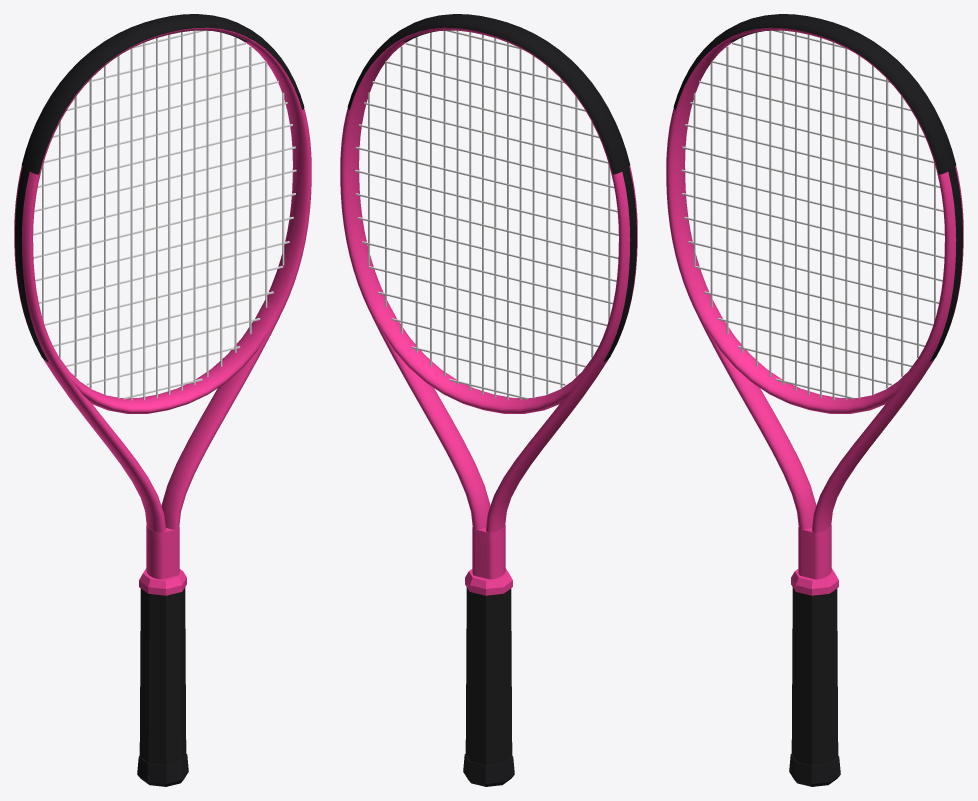
File: wilson-burn-pink-105s-v6-2026.glb
3 renders of one model, left to right at view 1: azimuth 30°, elevation 25°; view 2: azimuth 150°, elevation 25°; view 3: azimuth 330°, elevation 25°, orthographic.
Parts seen in each view (by area): view 1: frame, strings_mains, strings_crosses, grip, bumper, grommets, butt_cap, collar; view 2: frame, strings_mains, strings_crosses, grip, bumper, grommets, butt_cap, collar; view 3: frame, strings_mains, strings_crosses, grip, bumper, grommets, butt_cap, collar.
Part boxes in pixels (left/top/right/bottom): frame: left=14, top=27, right=311, bottom=579; strings_mains: left=42, top=30, right=284, bottom=400; strings_crosses: left=33, top=30, right=296, bottom=399; grip: left=139, top=587, right=186, bottom=765; bumper: left=21, top=14, right=304, bottom=174; grommets: left=15, top=167, right=48, bottom=361; butt_cap: left=137, top=754, right=188, bottom=786; collar: left=139, top=568, right=186, bottom=595; frame: left=340, top=27, right=637, bottom=579; strings_mains: left=368, top=30, right=610, bottom=399; strings_crosses: left=355, top=30, right=618, bottom=399; grip: left=465, top=587, right=512, bottom=765; bumper: left=347, top=14, right=630, bottom=174; grommets: left=603, top=167, right=636, bottom=361; butt_cap: left=463, top=754, right=514, bottom=786; collar: left=465, top=568, right=512, bottom=595; frame: left=666, top=27, right=963, bottom=579; strings_mains: left=693, top=30, right=935, bottom=400; strings_crosses: left=681, top=30, right=944, bottom=399; grip: left=791, top=587, right=838, bottom=765; bumper: left=673, top=14, right=956, bottom=174; grommets: left=929, top=167, right=962, bottom=361; butt_cap: left=789, top=754, right=840, bottom=786; collar: left=791, top=568, right=838, bottom=595.
Size of the model in its own units: 0.2757 by 0.6861 by 0.0396.
